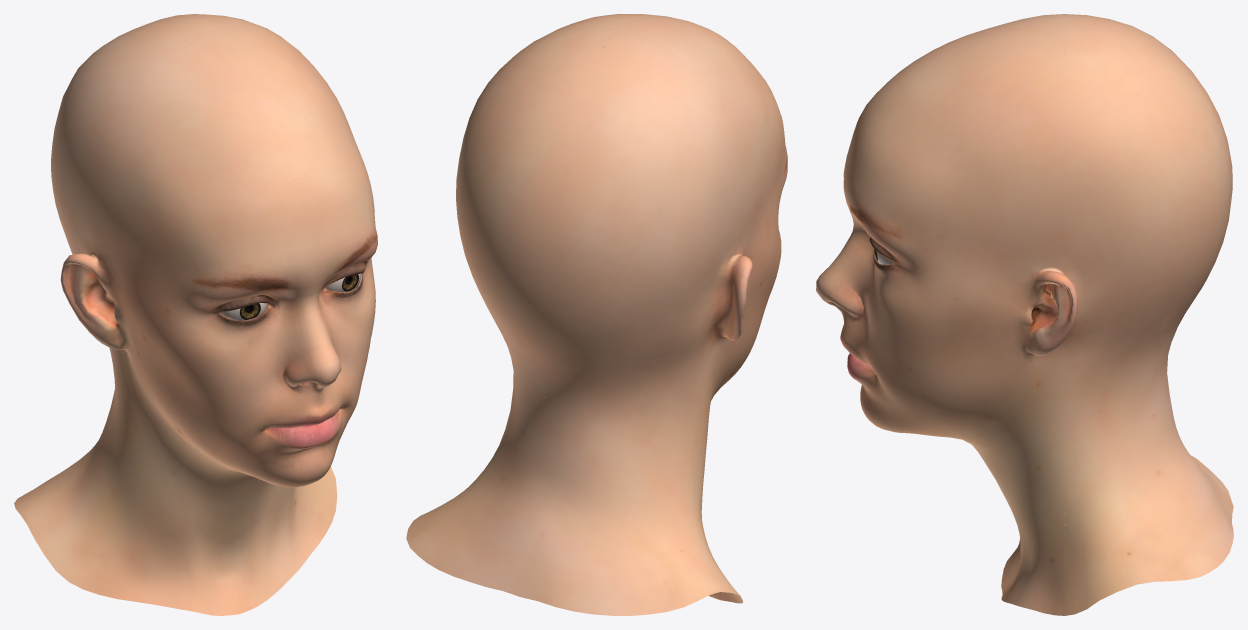
File: 真人头像_女_Neutral Female Head_opt.glb
3 renders of one model, left to right at view 1: azimuth 30°, elevation 25°; view 2: azimuth 150°, elevation 25°; view 3: azimuth 270°, elevation 25°, orthographic.
Parts seen in each view (by area): view 1: CD_AM1_Neutral_Female_Head_defaultMat, initialShadingGroup_0; view 2: CD_AM1_Neutral_Female_Head_defaultMat; view 3: CD_AM1_Neutral_Female_Head_defaultMat.
Boxes of the visible parts, x1=… form: CD_AM1_Neutral_Female_Head_defaultMat: x1=14, y1=14, x2=377, y2=615; initialShadingGroup_0: x1=220, y1=273, x2=361, y2=320; CD_AM1_Neutral_Female_Head_defaultMat: x1=406, y1=14, x2=787, y2=615; CD_AM1_Neutral_Female_Head_defaultMat: x1=816, y1=14, x2=1233, y2=615.
Size of what is drawn, in the model's own units: 0.2198 by 0.4 by 0.2693.
Materials: 3 (3 with a texture image).
